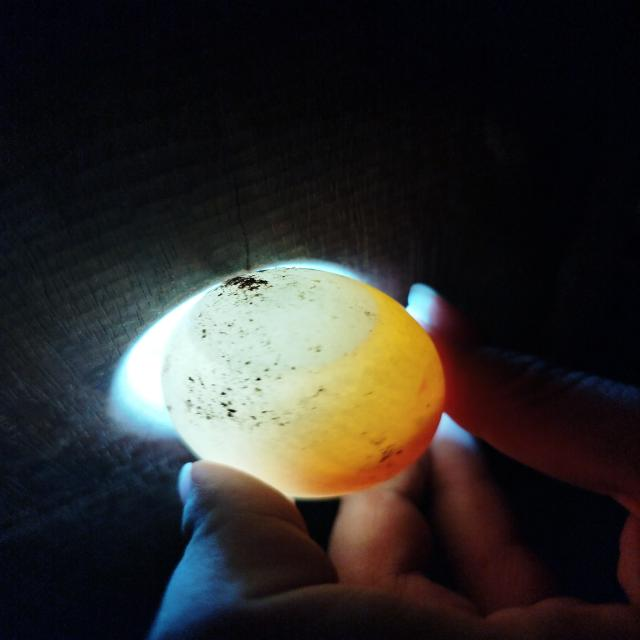Camara de Ar: (190, 269, 374, 370)
Gema Quebrada: (302, 393, 446, 494)
